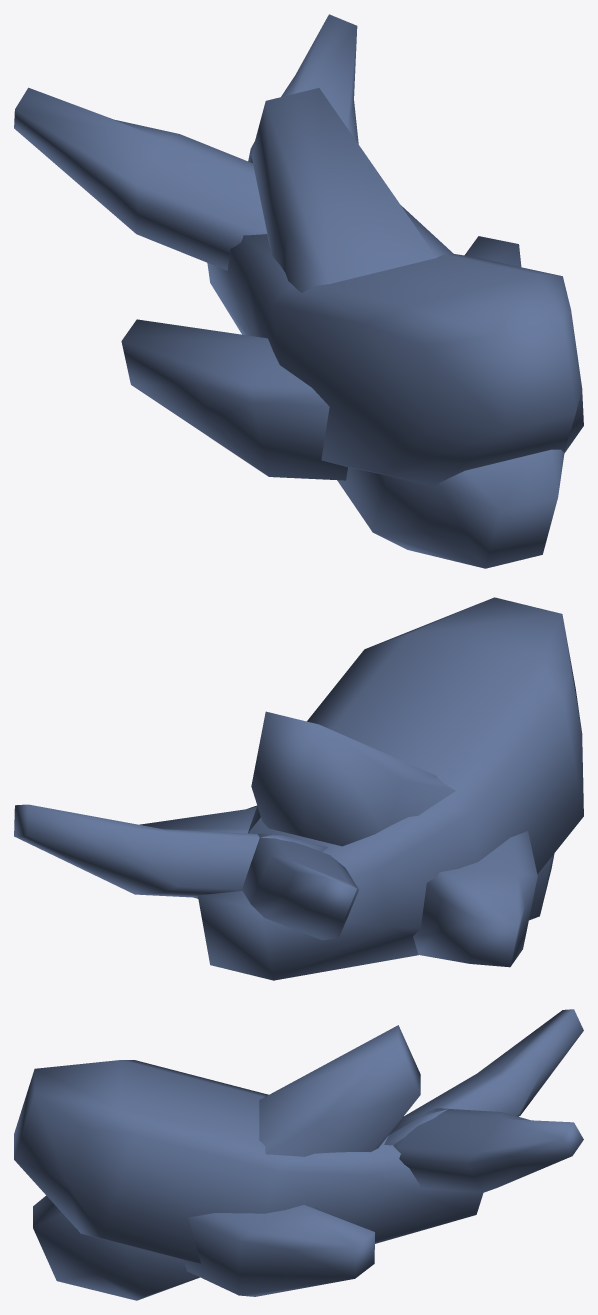
Rendered from creature_5.glb.
3 renders of one model, top to bottom at view 1: azimuth 30°, elevation 25°; view 2: azimuth 150°, elevation 25°; view 3: azimuth 270°, elevation 25°, orthographic. The views are drawn at different scales.
Parts seen in each view (by area): view 1: Cube.004, Cube; view 2: Cube.004, Cube; view 3: Cube.004, Cube.
Boxes of the visible parts, left/top/right/bottom form: Cube.004: left=14, top=14, right=583, bottom=486; Cube: left=337, top=449, right=564, bottom=568; Cube.004: left=14, top=597, right=583, bottom=980; Cube: left=529, top=853, right=554, bottom=920; Cube.004: left=14, top=1009, right=583, bottom=1296; Cube: left=33, top=1195, right=199, bottom=1300.
Bounding box in the file's own units: 3.57 × 2.73 × 5.75.
